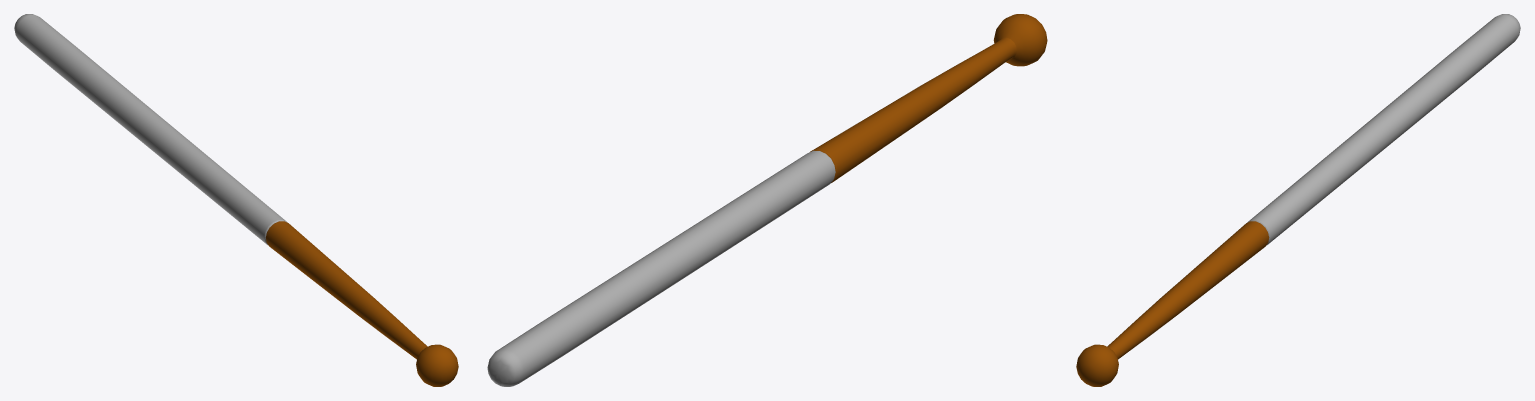
The model's file is DM_DrumStickB.fbx.
3 views of the same model, side by side, from view 1: azimuth 30°, elevation 25°; view 2: azimuth 150°, elevation 25°; view 3: azimuth 330°, elevation 25° (orthographic). The views are drawn at different scales.
Visible parts, largest first — view 1: DS_handle, DS_head; view 2: DS_handle, DS_head; view 3: DS_handle, DS_head.
Boxes of the visible parts, left/top/right/bottom form: DS_handle: left=14, top=14, right=287, bottom=245; DS_head: left=265, top=221, right=458, bottom=386; DS_handle: left=487, top=150, right=835, bottom=386; DS_head: left=810, top=14, right=1047, bottom=182; DS_handle: left=1247, top=14, right=1520, bottom=245; DS_head: left=1076, top=221, right=1269, bottom=386.
Bounding box in the file's own units: 20.11 × 37.82 × 405.
